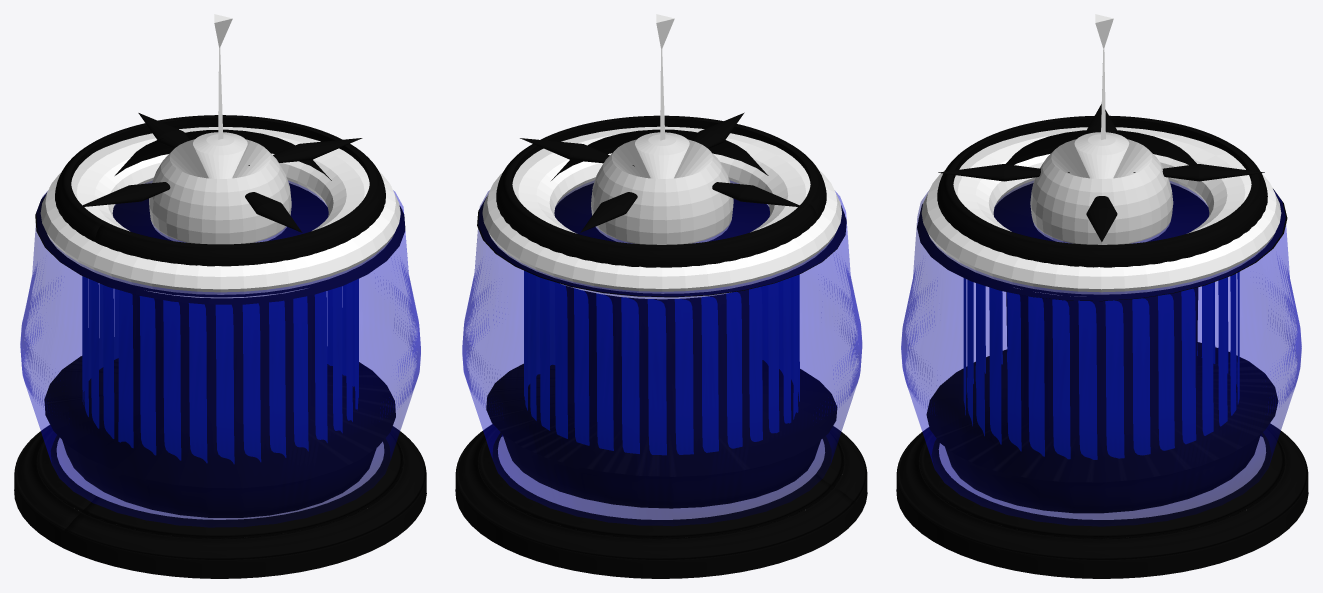
The model's file is sensor.glb.
The picture shows the model from 3 angles, left to right: view 1: azimuth 30°, elevation 25°; view 2: azimuth 150°, elevation 25°; view 3: azimuth 270°, elevation 25°; orthographic projection.
Parts seen in each view (by area): view 1: motion_sensor, glass, sensor, power, light, Cone.W, Cone.E, Cone.S, Cone.N, Spirit_Box.005; view 2: motion_sensor, glass, sensor, power, light, Cone.W, Cone.E, Cone.N, Cone.S, Spirit_Box.005; view 3: motion_sensor, glass, sensor, power, light, Cone.S, Cone.N, Cone.E, Spirit_Box.005.
Part boxes in pixels (x1,y1,x2,y2): motion_sensor: [14, 127, 426, 578]; glass: [20, 181, 420, 527]; sensor: [82, 276, 358, 464]; power: [55, 115, 385, 266]; light: [149, 132, 291, 244]; Cone.W: [78, 182, 170, 207]; Cone.E: [248, 138, 362, 165]; Cone.S: [245, 192, 302, 232]; Cone.N: [138, 113, 189, 148]; Spirit_Box.005: [214, 14, 232, 139]; motion_sensor: [455, 126, 867, 578]; glass: [462, 181, 862, 525]; sensor: [524, 270, 799, 455]; power: [496, 115, 826, 267]; light: [591, 132, 733, 244]; Cone.W: [712, 182, 804, 207]; Cone.E: [520, 138, 634, 166]; Cone.N: [580, 192, 637, 232]; Cone.S: [692, 112, 744, 148]; Spirit_Box.005: [656, 14, 674, 140]; motion_sensor: [896, 127, 1308, 578]; glass: [901, 181, 1301, 526]; sensor: [963, 272, 1239, 459]; power: [937, 115, 1267, 267]; light: [1030, 132, 1173, 244]; Cone.S: [938, 164, 1069, 181]; Cone.N: [1133, 164, 1264, 181]; Cone.E: [1086, 196, 1117, 241]; Spirit_Box.005: [1095, 14, 1113, 139].
Bounding box in the file's own units: 0.1409 × 0.1784 × 0.1409.
12 materials, 1 textured.
